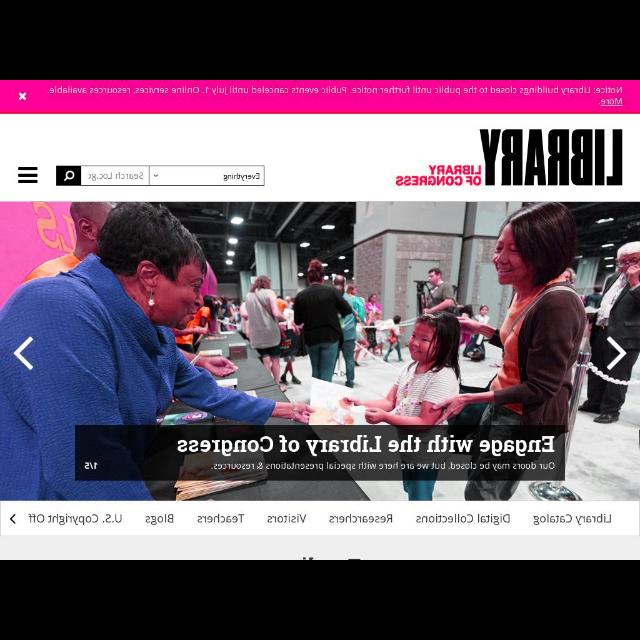backgroundimage: (1, 202, 639, 500)
button: (57, 165, 81, 185)
icon: (13, 335, 34, 371), (18, 167, 38, 186), (63, 171, 75, 181), (9, 513, 17, 523), (18, 92, 26, 100), (154, 172, 158, 178)
image: (395, 128, 625, 190)
input: (82, 166, 148, 184)
multitab: (1, 502, 639, 536)
spinner: (150, 166, 264, 184)
text: (176, 435, 554, 453), (49, 86, 624, 96), (211, 461, 555, 471), (28, 512, 122, 526), (416, 513, 510, 525), (532, 514, 612, 526), (328, 514, 394, 524), (195, 514, 242, 524), (86, 172, 144, 180), (266, 514, 306, 524), (222, 173, 258, 181), (145, 515, 173, 525), (600, 97, 624, 105), (84, 461, 98, 469)
toolbar: (1, 114, 639, 200)
